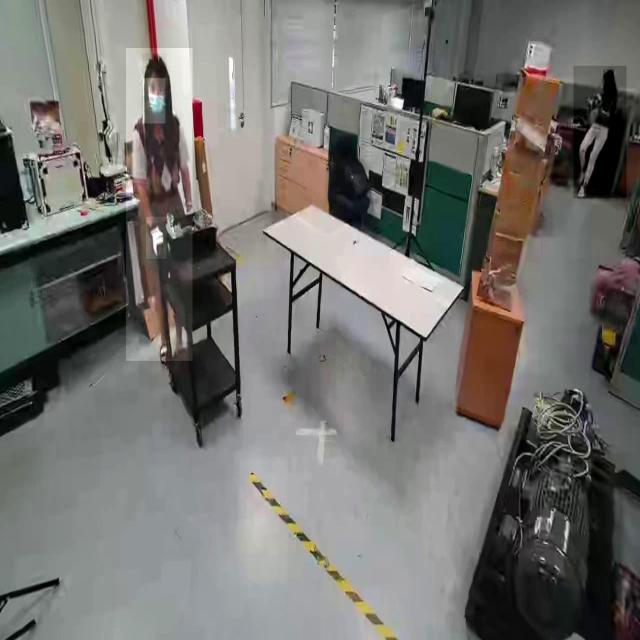face_mask: (143, 78, 165, 124)
hand_glove: (146, 217, 167, 259)
head_nohelmet: (142, 54, 168, 78), (603, 70, 615, 78)
person: (126, 48, 193, 362), (573, 66, 627, 199)
